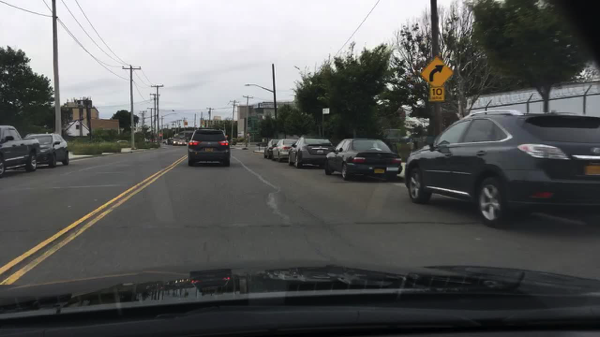car: (403, 110, 599, 227), (325, 138, 402, 180), (187, 127, 232, 168), (285, 136, 334, 168), (29, 133, 71, 167), (272, 138, 298, 162), (263, 139, 279, 159), (178, 140, 187, 145), (172, 139, 178, 145)
traffic sign: (420, 54, 453, 87), (428, 87, 444, 102), (322, 108, 330, 115)
truck: (0, 125, 41, 177)
